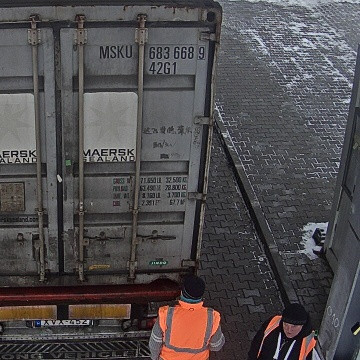serial_id: (99, 45, 205, 59)
